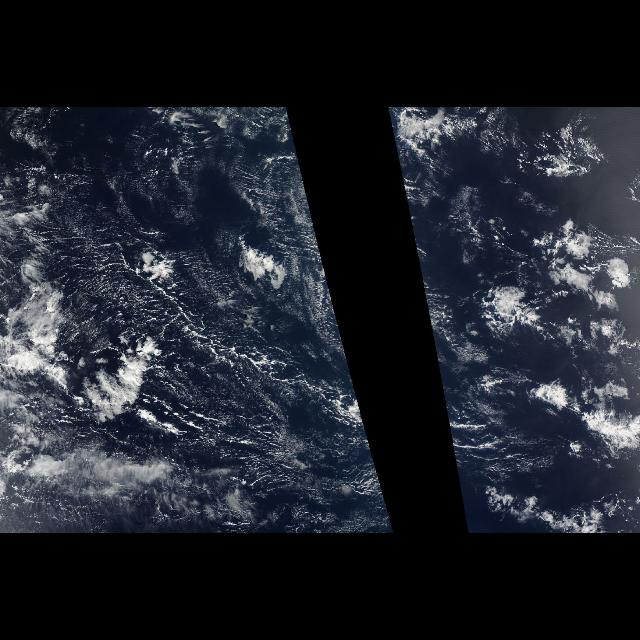Flower: (434, 142, 640, 516)
Sugar: (57, 161, 395, 533)
